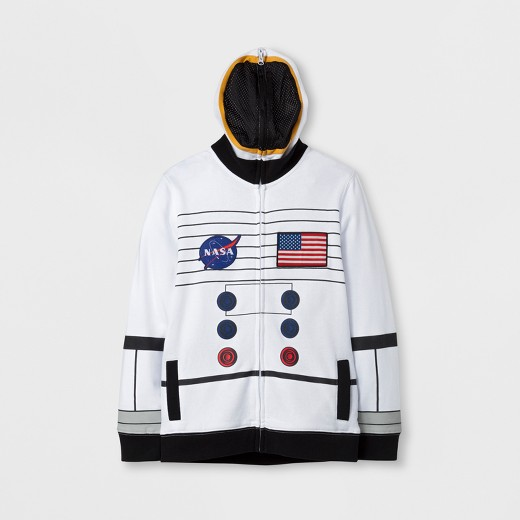NASA: (196, 229, 243, 275)
